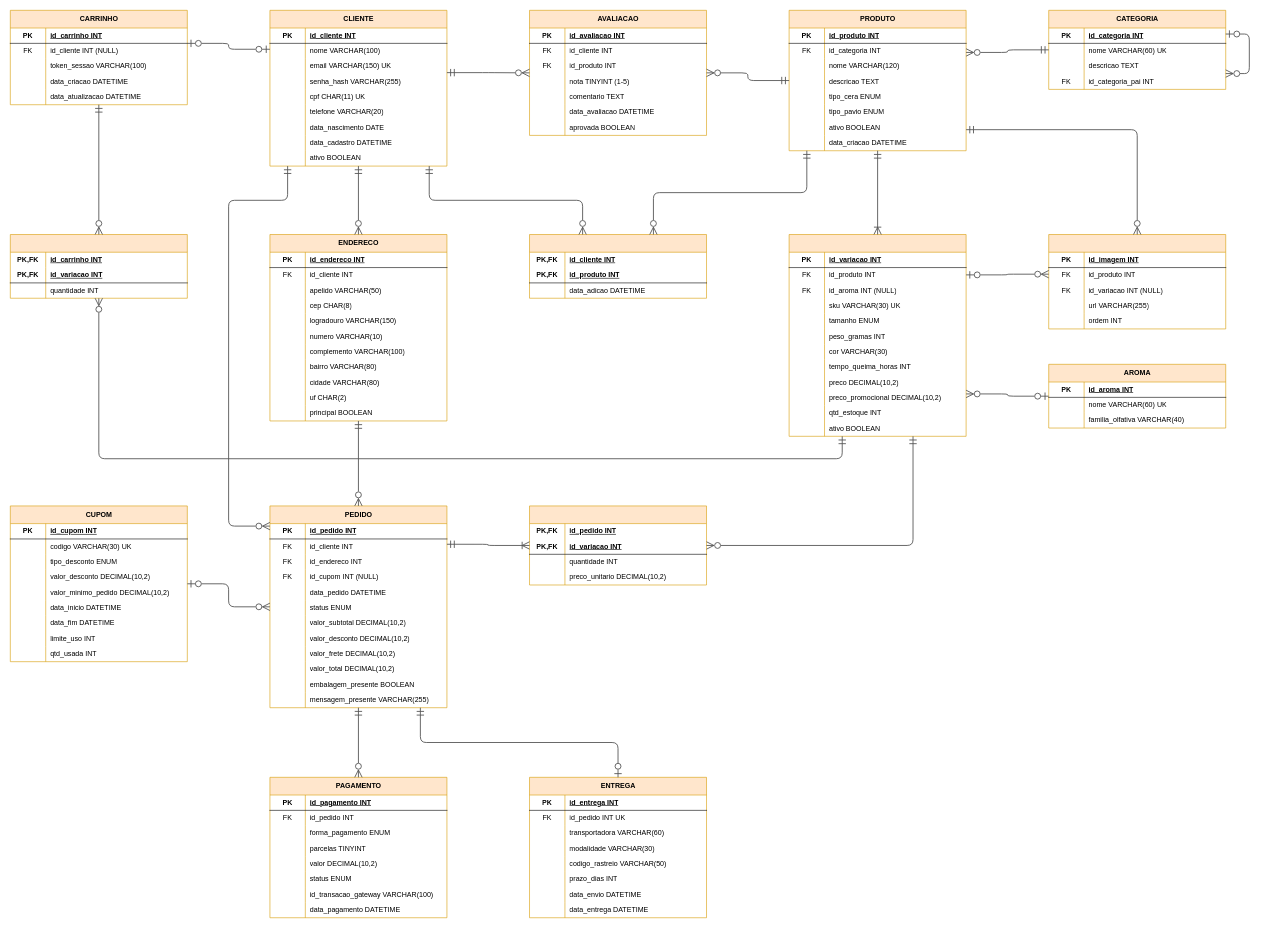
Image size: 1268x928. Some labels were removed from this diagram. The box of each missing label's shape, as (x1, y1, x2, y2) in pixels:
IMAGEM_PRODUTO: (1048, 234, 1226, 329)
ITEM_CARRINHO: (10, 234, 187, 298)
ITEM_PEDIDO: (529, 505, 707, 585)
LISTA_DESEJOS: (529, 234, 707, 298)
VARIACAO_PRODUTO: (789, 234, 966, 436)
